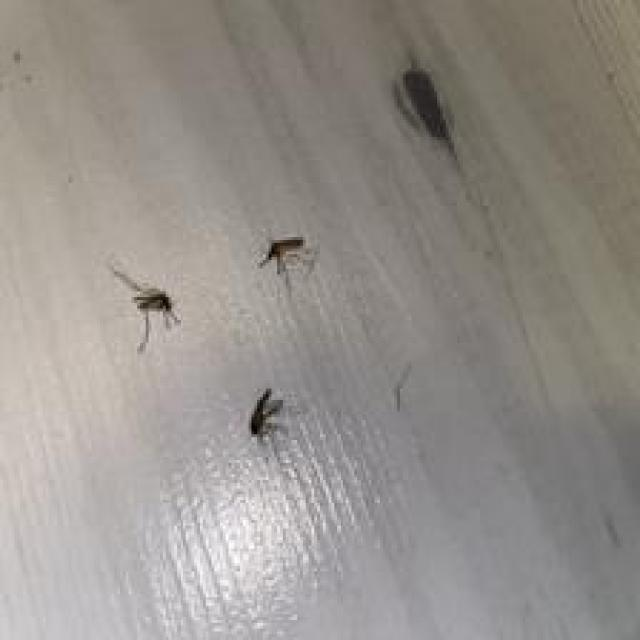Culex: (111, 266, 180, 351)
